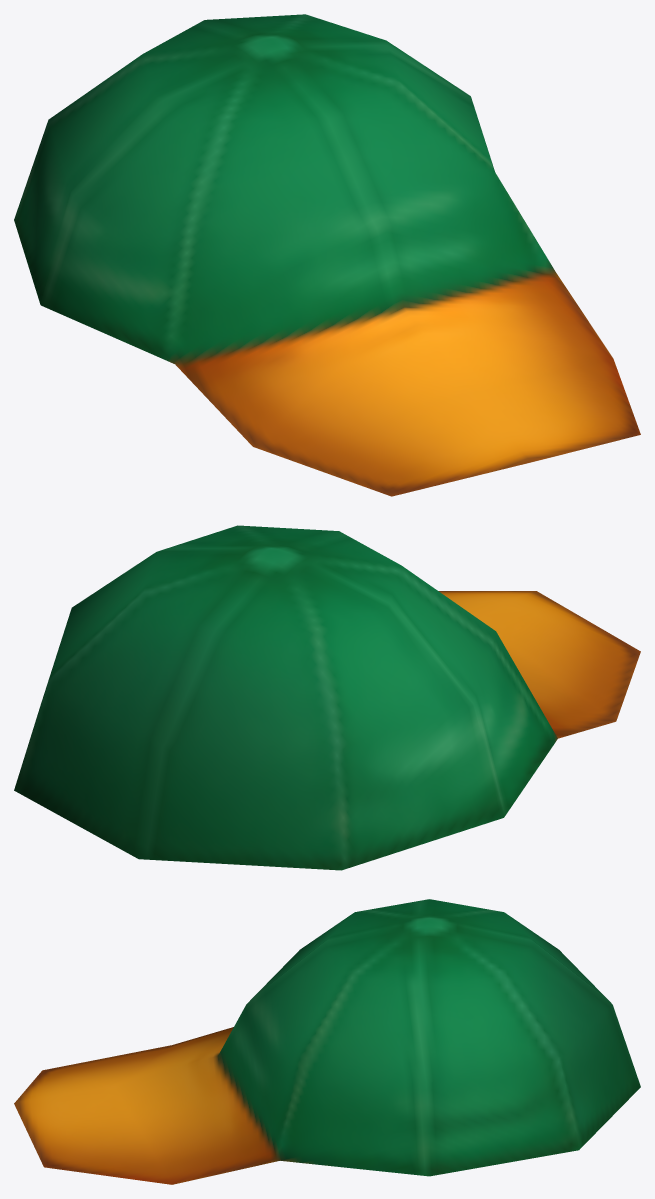
File: tt_m_chr_avt_acc_hat_baseball.glb
3 renders of one model, top to bottom at view 1: azimuth 30°, elevation 25°; view 2: azimuth 150°, elevation 25°; view 3: azimuth 270°, elevation 25°, orthographic. The views are drawn at different scales.
Visible parts, largest first — view 1: baseballHat; view 2: baseballHat; view 3: baseballHat.
Boxes of the visible parts, x1,y1,x2,y2 form: baseballHat: [14, 14, 640, 496]; baseballHat: [14, 525, 640, 870]; baseballHat: [14, 899, 640, 1184].
Size of the model in its own units: 2.77 by 1.42 by 4.11.
1 material, 1 textured.
